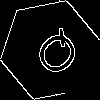Q: (25, 25, 85, 87)
